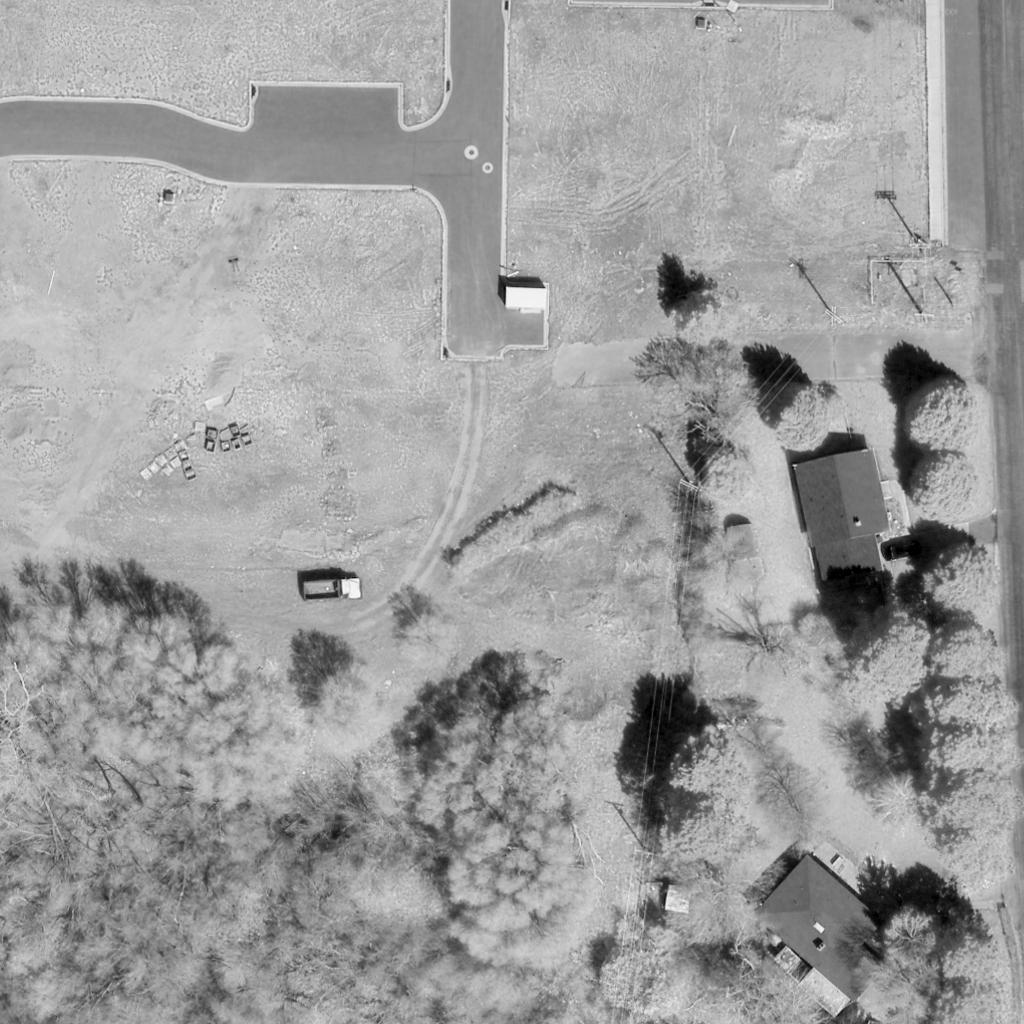vehicle: (300, 577, 362, 605)
